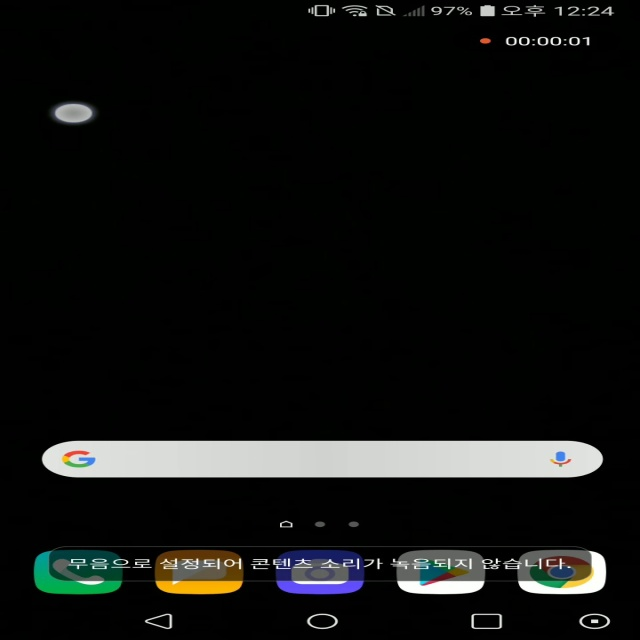Cursor: (53, 103, 97, 125)
